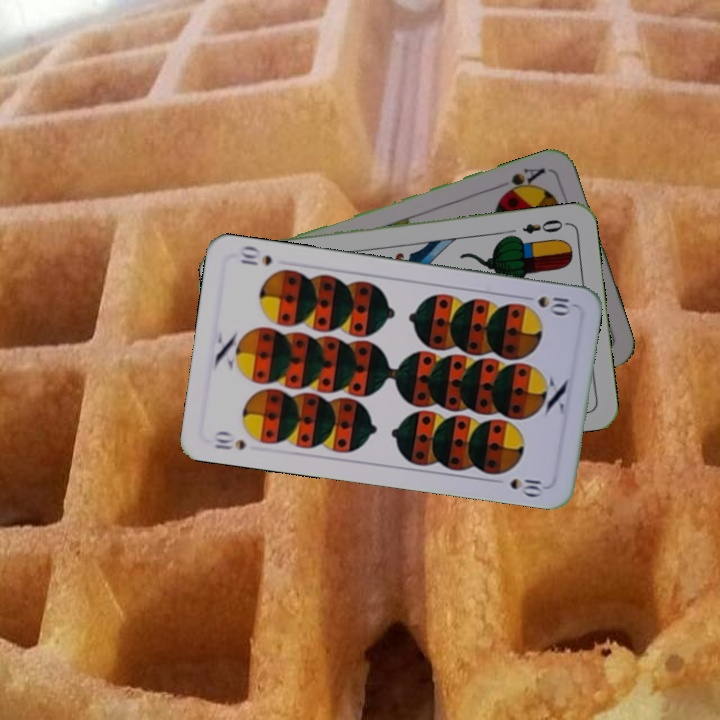EO: (518, 215, 570, 236)
S10: (533, 292, 576, 316), (210, 427, 248, 453)
SA: (498, 163, 548, 199)
